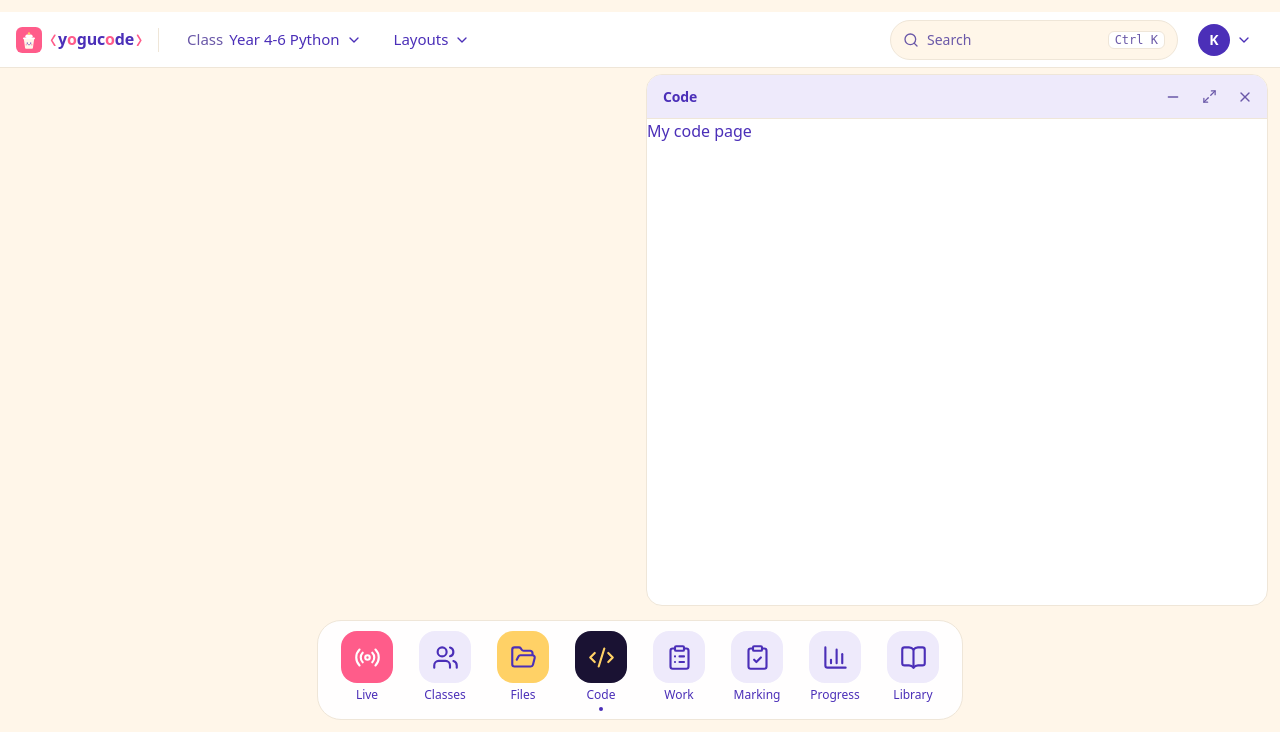
Scenario: a saved layout comes back, and changes are saved to the account
Expected: the text "My code page" is shown, [647,120,752,142]
Expected: the text "Live page" is not shown
Click the button with aria-label "Open Live": (367, 671) [330,629,404,713]
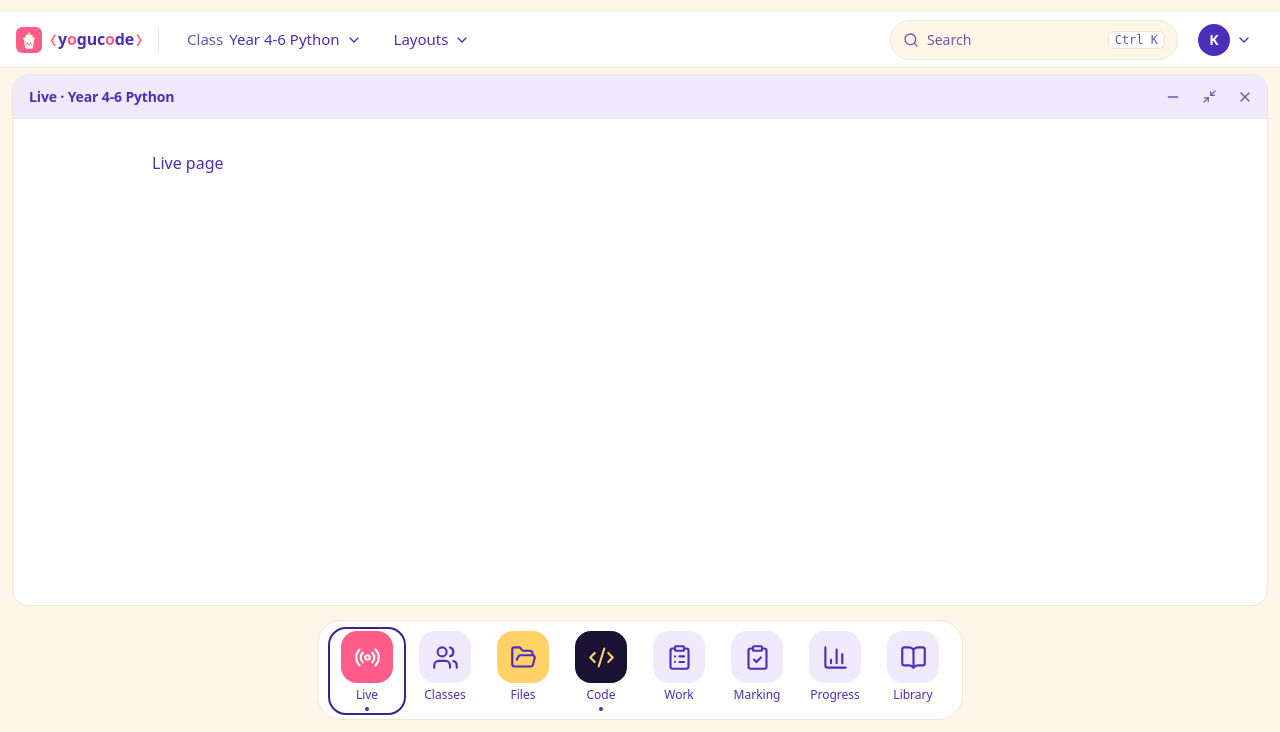
Now the text "Live page" is shown, box [152,152,224,174]
